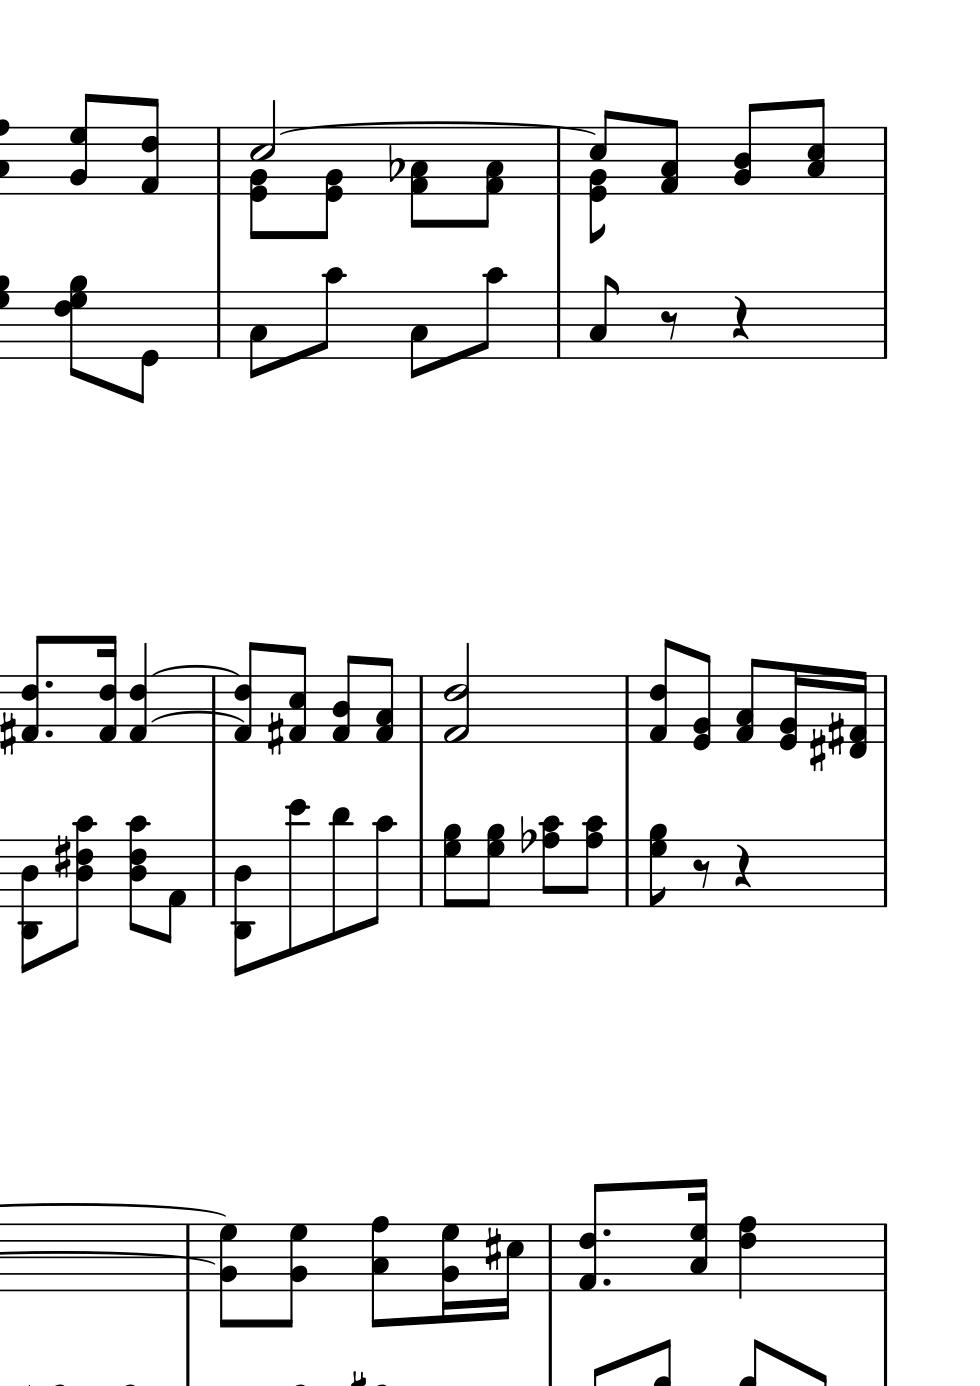16_-1_1: (848, 669, 869, 760)
16_0_2: (778, 659, 807, 749)
16_1_6: (97, 634, 118, 745)
16_5: (497, 1222, 524, 1321)
2_1_6: (442, 642, 471, 744)
4_1_6: (129, 645, 150, 745)
8_-3_4: (232, 838, 257, 978), (20, 837, 43, 973)
8_0: (132, 288, 160, 405)
8_0_2: (313, 125, 343, 240), (692, 649, 713, 753)
8_1: (162, 838, 187, 945)
8_10: (361, 815, 395, 929), (471, 265, 506, 361), (312, 265, 346, 359)
8_11: (329, 806, 352, 943)
8_12: (286, 796, 310, 958)
8_1_3: (480, 125, 507, 230), (409, 125, 432, 231), (735, 656, 762, 745), (659, 118, 680, 197), (374, 656, 393, 743)
8_1_4: (331, 654, 358, 747)
8_1_5: (286, 644, 309, 745)
8_1_6: (21, 633, 49, 745), (232, 641, 260, 745), (649, 638, 676, 745), (141, 97, 161, 196)
8_2_4: (732, 102, 758, 198)
8_2_7: (69, 93, 99, 198)
8_3: (587, 274, 619, 361), (246, 290, 268, 381), (407, 290, 428, 380)
8_3_5: (808, 97, 828, 197)
8_7_9: (480, 823, 505, 908), (443, 822, 463, 909), (649, 822, 668, 909)
8_8_10: (578, 815, 608, 909), (538, 814, 562, 908)
8_th: (65, 814, 99, 952), (52, 273, 90, 382), (125, 812, 154, 940)
Flat: (386, 142, 404, 185), (517, 813, 535, 856)
Rests4: (729, 294, 751, 343), (731, 843, 753, 891)
Rests8: (658, 308, 681, 343), (690, 857, 713, 890)
Sharp: (51, 832, 73, 881), (482, 1224, 503, 1274), (265, 710, 284, 758), (808, 723, 826, 772), (827, 710, 844, 759), (1, 707, 16, 757)
Single_barline: (549, 292, 567, 358), (618, 676, 636, 742), (179, 1225, 197, 1292), (413, 676, 430, 743), (549, 130, 567, 194), (876, 127, 893, 194), (876, 292, 893, 358), (876, 840, 893, 907), (541, 1224, 558, 1291), (876, 1224, 893, 1291), (210, 128, 227, 194), (210, 292, 227, 357), (877, 674, 893, 744), (206, 677, 222, 743), (619, 839, 635, 906), (413, 840, 428, 907), (205, 840, 221, 906)
Slur: (283, 117, 593, 134), (152, 663, 241, 676), (153, 713, 245, 722)
dot: (600, 1226, 614, 1240), (601, 1275, 613, 1289), (43, 677, 54, 691), (43, 727, 54, 740)
